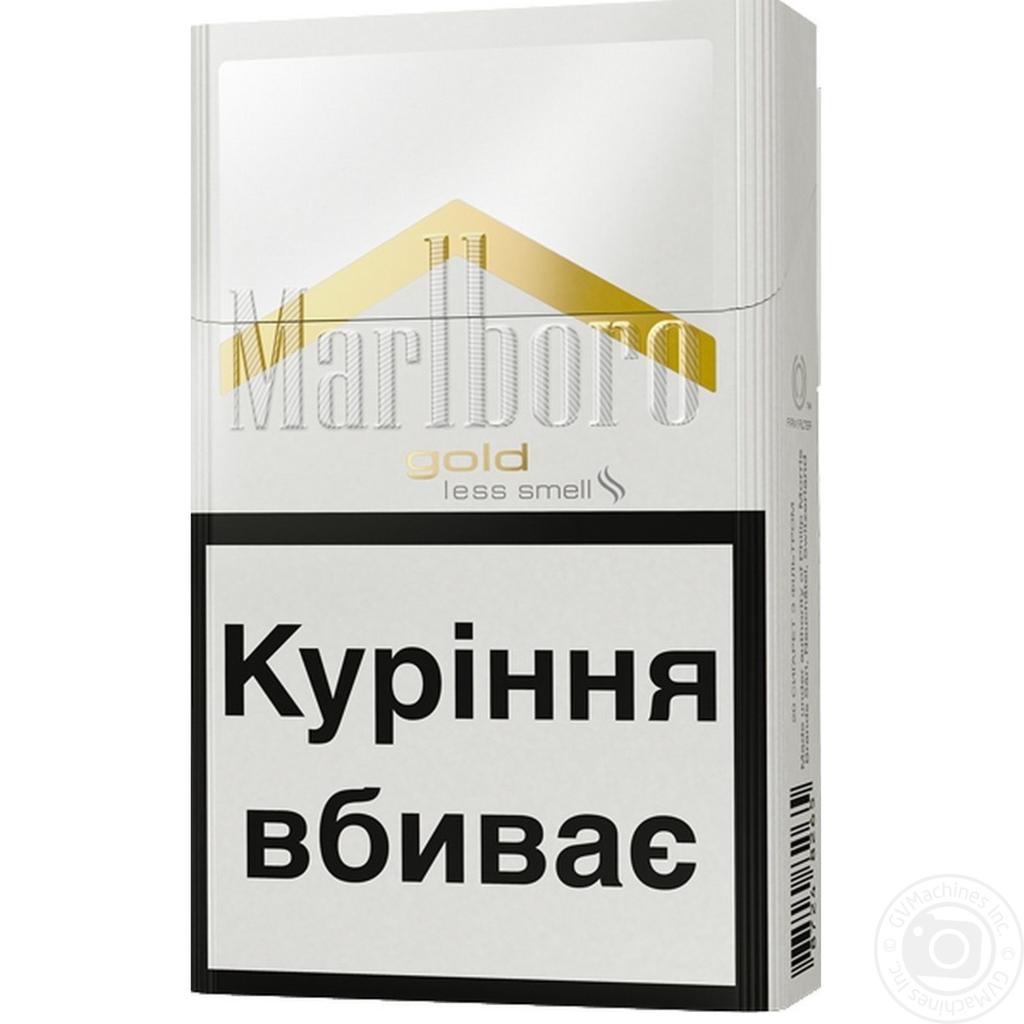marlboro_gold: (196, 22, 765, 1002)
